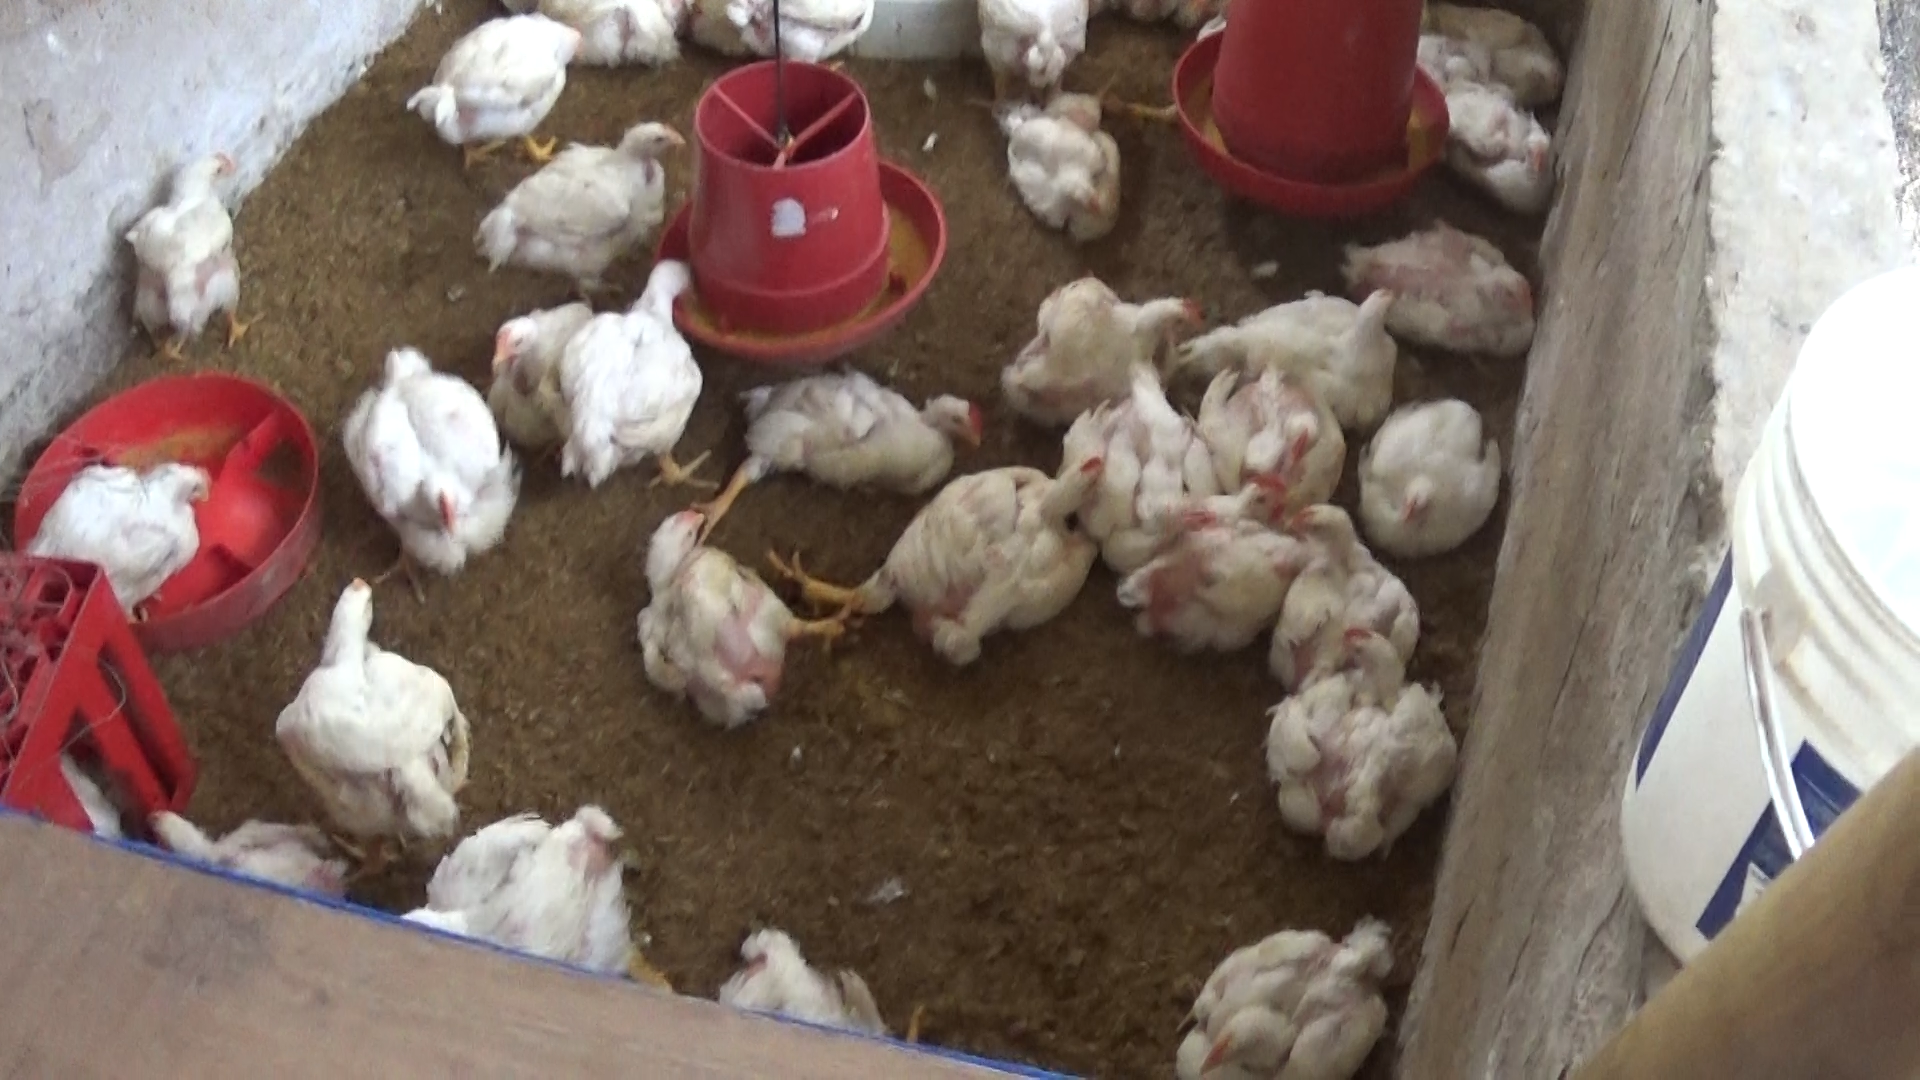Pollos: (252, 576, 465, 828), (825, 452, 1105, 640), (417, 794, 671, 992), (616, 517, 843, 731), (686, 367, 985, 520), (1273, 612, 1451, 855), (471, 105, 698, 295), (1162, 911, 1416, 1077), (351, 328, 526, 567), (102, 132, 272, 375), (562, 237, 716, 491), (12, 438, 229, 611), (404, 7, 593, 185), (1193, 273, 1422, 419), (1338, 203, 1538, 363), (1350, 382, 1515, 564), (136, 785, 334, 936), (1065, 368, 1212, 568), (713, 893, 916, 1029), (985, 96, 1149, 264), (1269, 487, 1427, 651), (988, 277, 1207, 396), (1133, 487, 1291, 642), (1189, 371, 1354, 513), (496, 272, 596, 440), (1447, 69, 1560, 218), (960, 1, 1110, 113), (738, 0, 877, 69)
